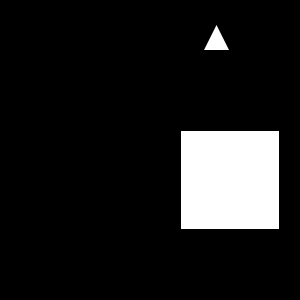circle: (181, 131, 279, 229)
triangle: (204, 25, 229, 50)
